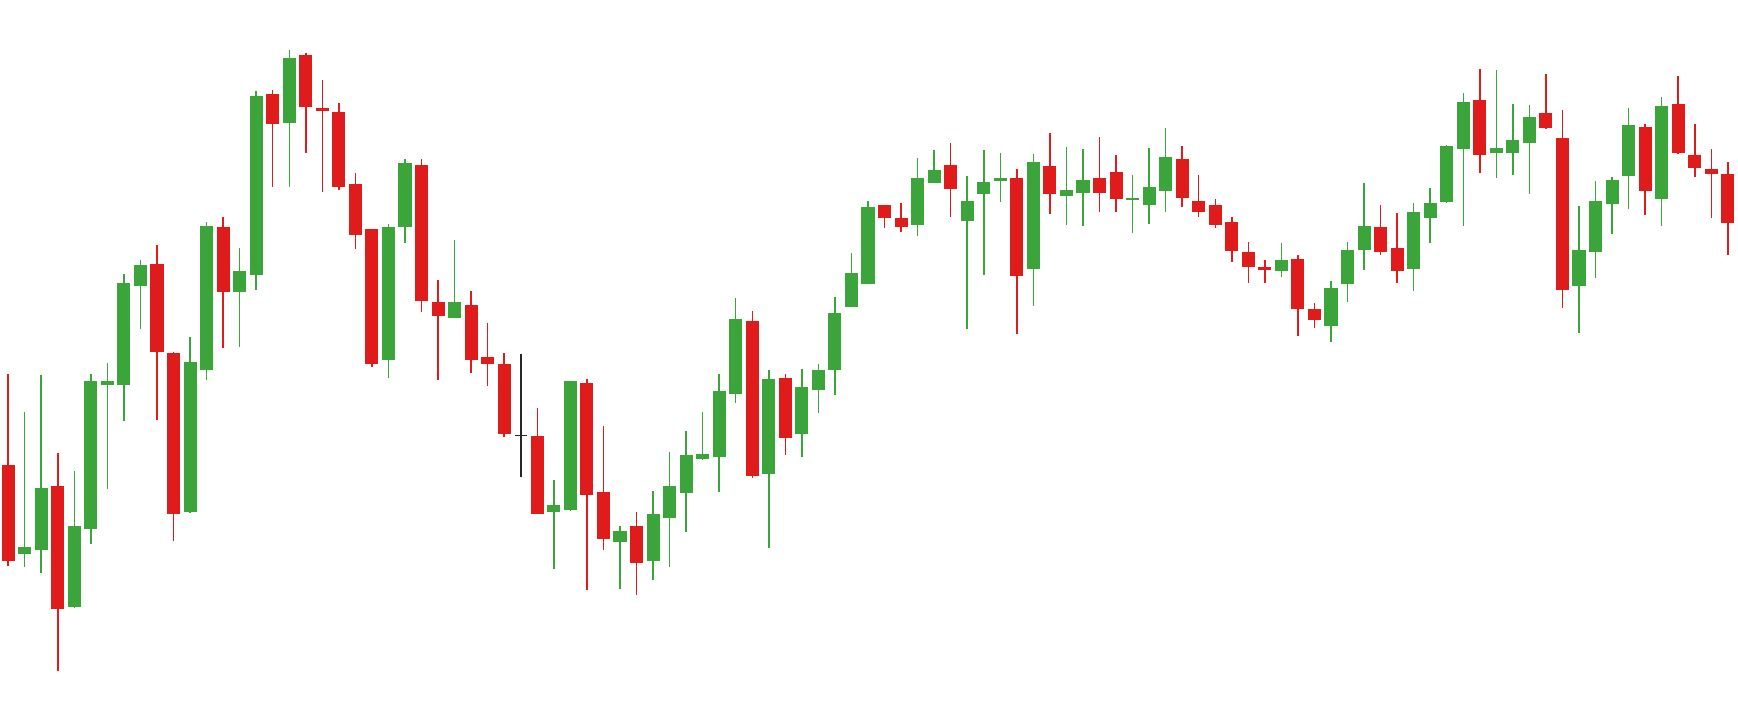buy: (1388, 150, 1587, 346)
